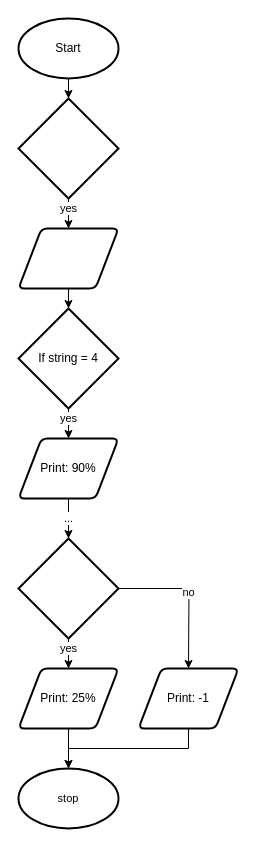
This 256x846 diagram has some shape labels left out. The centre of each missing label's shape, as x and y in pixels:
"If string = 4+" belongs at (68,148).
"If string = R" belongs at (68,588).
"Print: 97%" belongs at (68,258).
